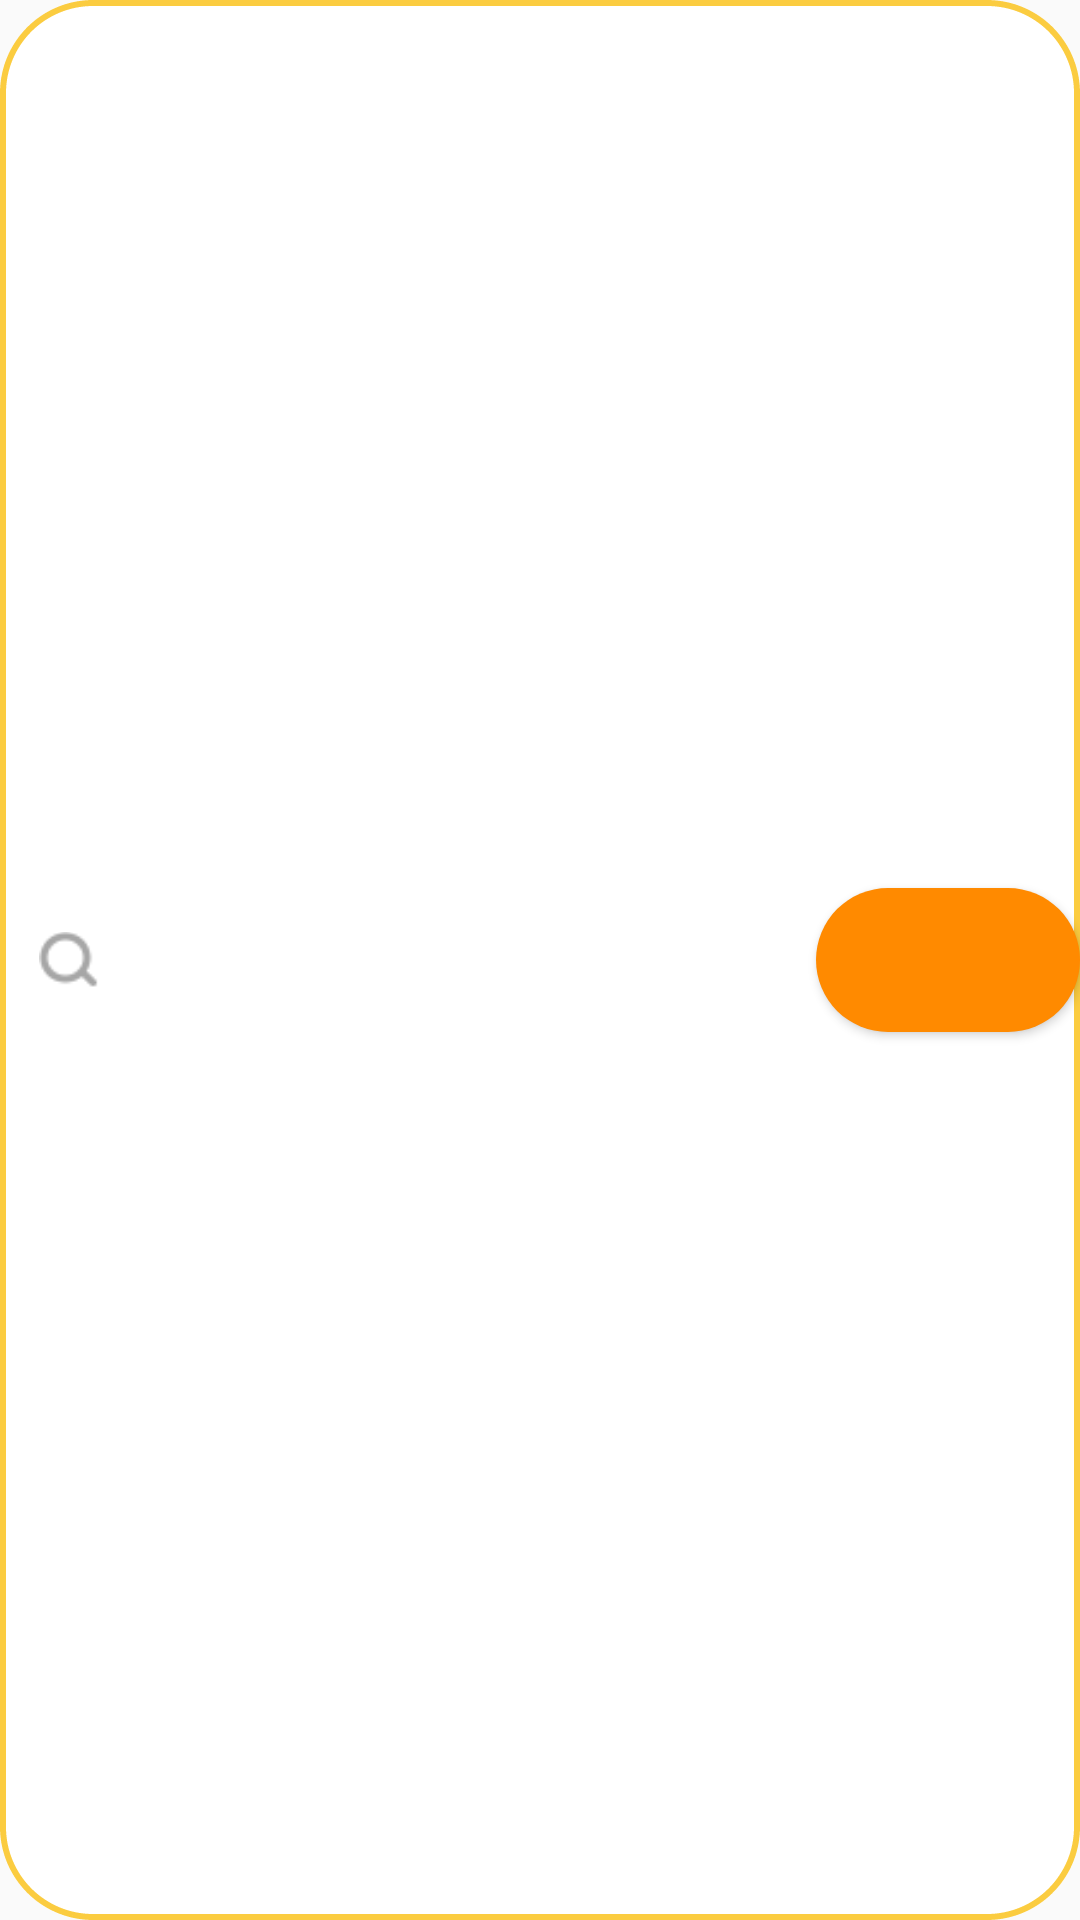

Icon click points for this 1080×1920 phone screenshot, format [x,y]:
page main search: [68,959]
